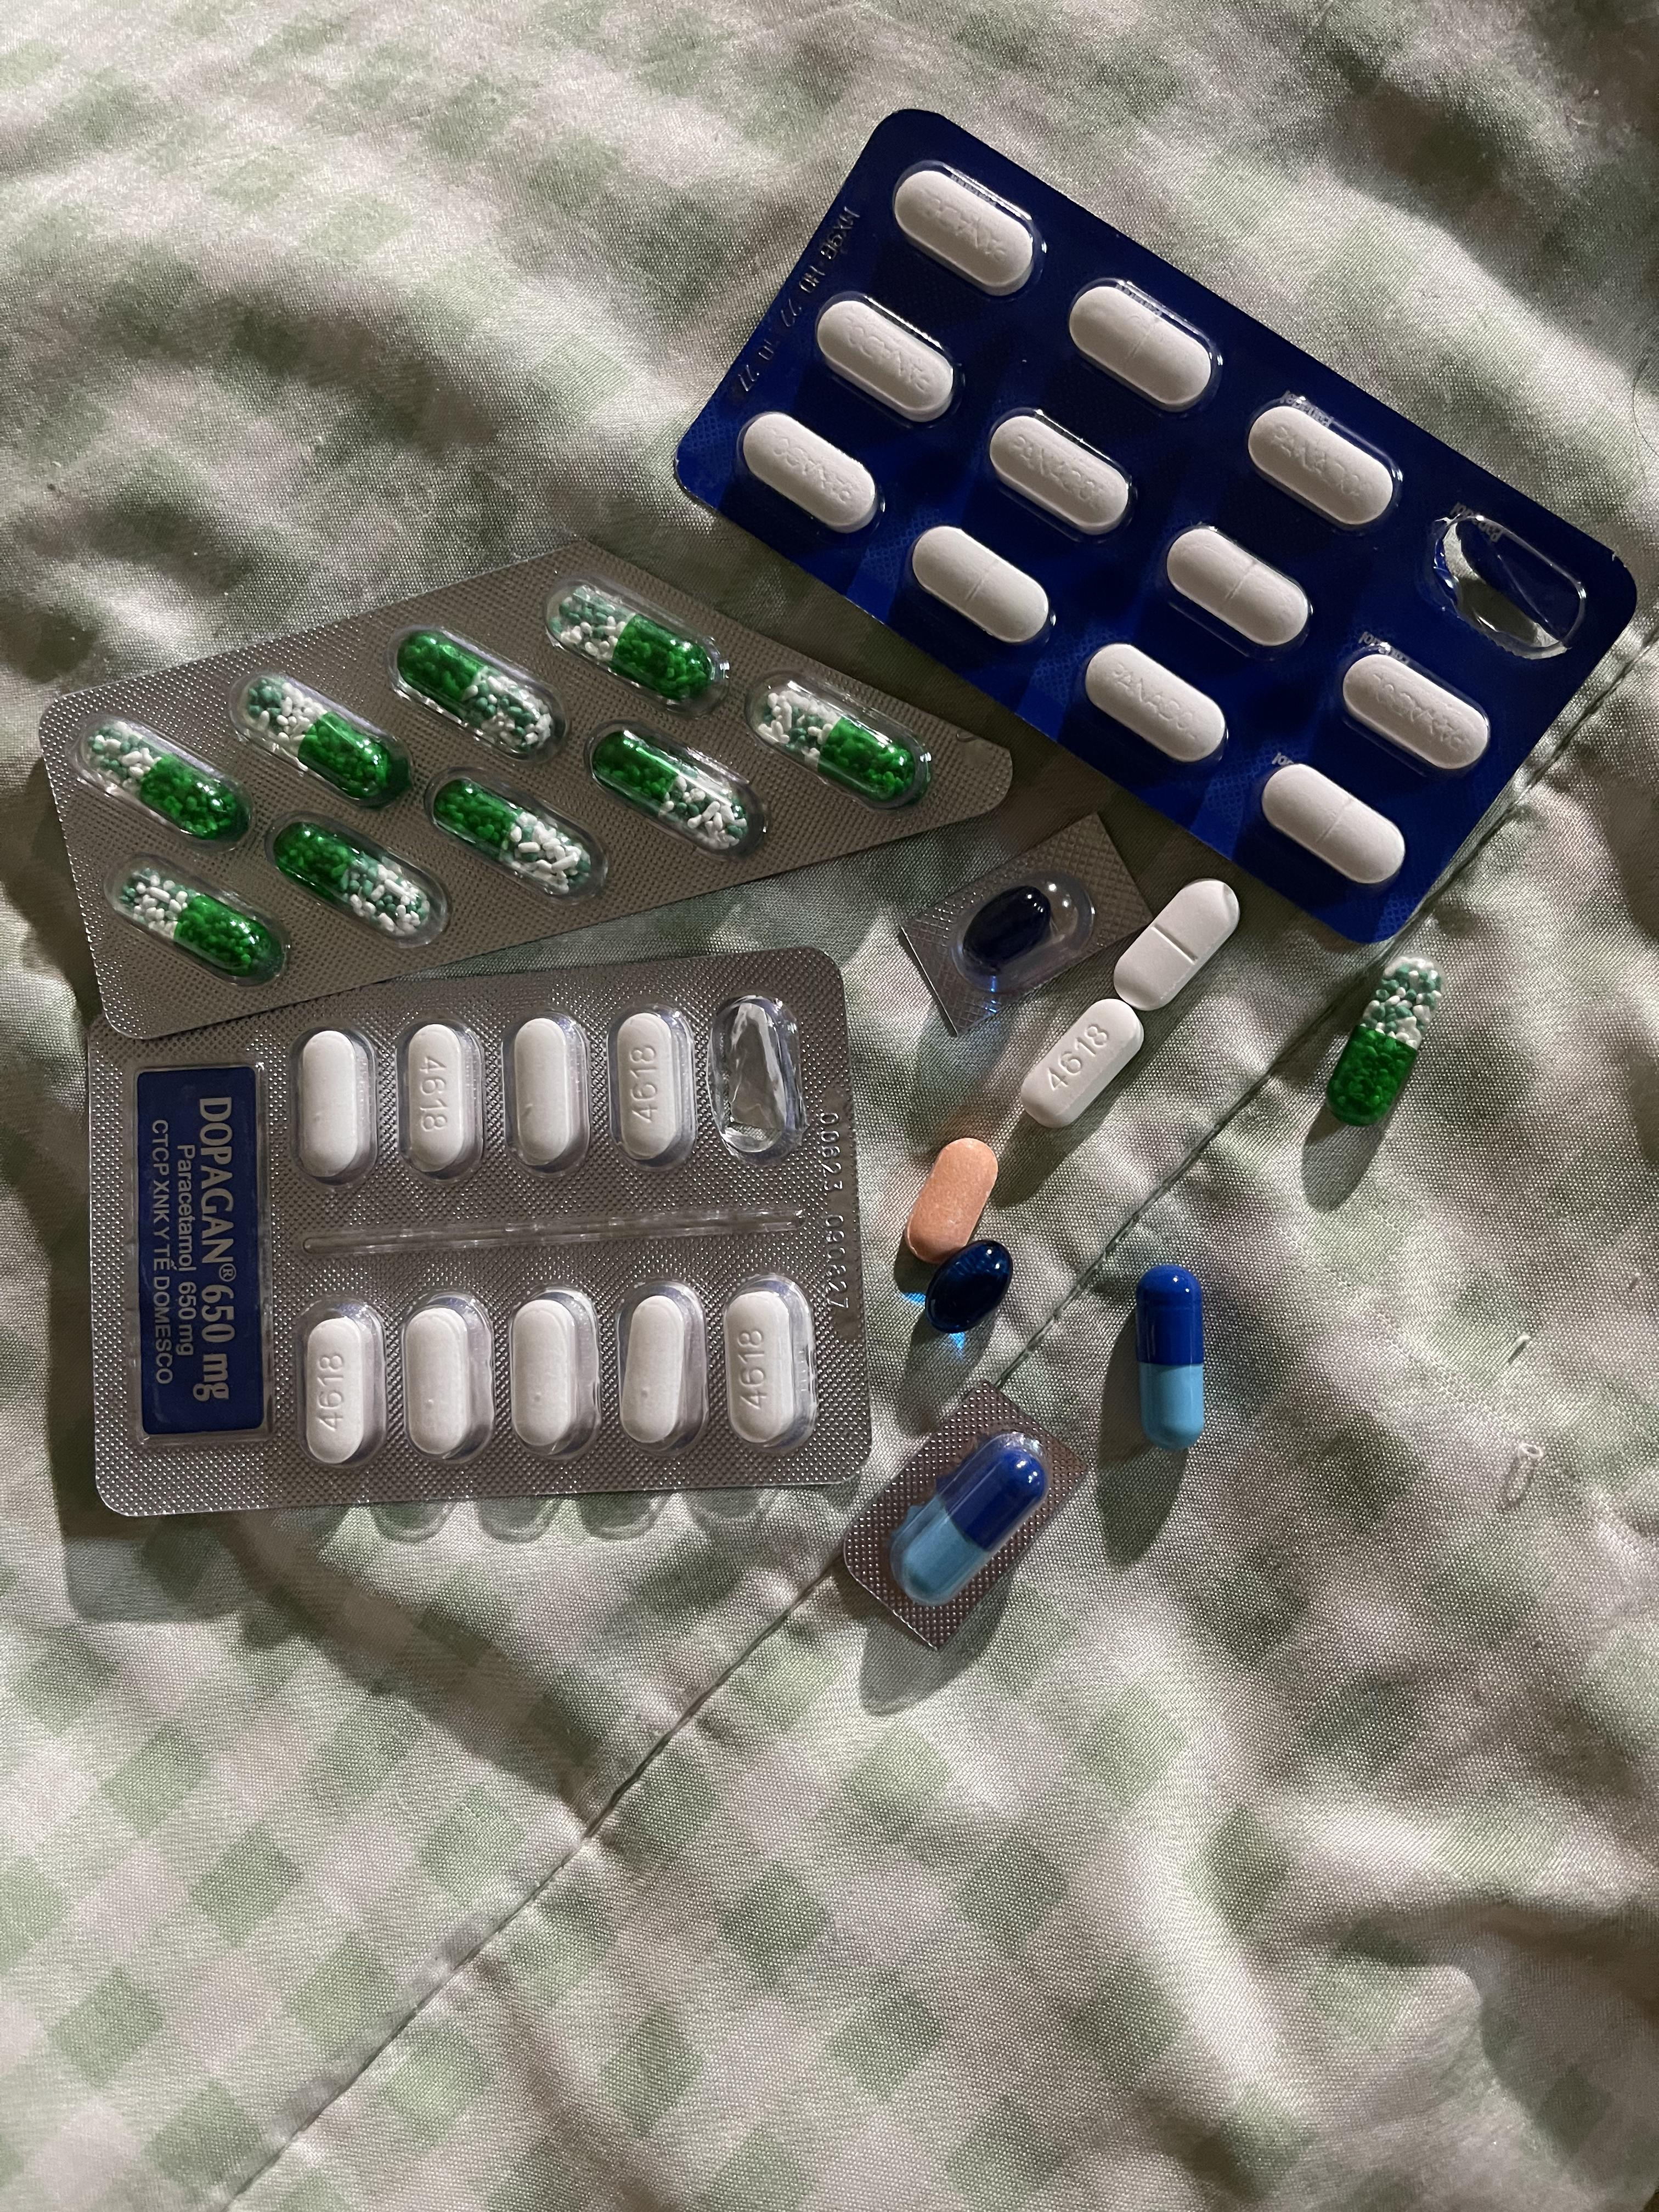Lincomyxin_500mg: (925, 1240, 1012, 1334), (965, 888, 1053, 968)
Loratadine_10mg: (904, 1137, 1006, 1264)
Paracetamol_350mg: (894, 162, 1040, 300), (1248, 399, 1399, 529), (1070, 279, 1216, 409), (1342, 651, 1492, 773), (986, 411, 1127, 538), (816, 294, 953, 423), (1260, 768, 1410, 885), (1166, 526, 1307, 648), (911, 526, 1049, 644), (1087, 643, 1225, 761), (749, 411, 878, 533), (1117, 883, 1236, 1008)
Paracetamol_500mg: (403, 1292, 495, 1463), (1021, 1005, 1147, 1118), (511, 1296, 587, 1456), (620, 1291, 695, 1447), (725, 1292, 798, 1446), (615, 1012, 690, 1160), (301, 1317, 375, 1467), (512, 1017, 584, 1169), (298, 1029, 369, 1181), (408, 1028, 474, 1177)
Paracetamol_650mg: (242, 679, 403, 805), (551, 589, 713, 705), (1328, 958, 1445, 1120), (401, 632, 558, 752), (272, 824, 427, 937), (591, 733, 741, 850), (87, 726, 242, 838), (436, 782, 591, 890), (120, 869, 275, 972), (758, 691, 890, 805)
pill: (889, 1430, 1049, 1608), (1136, 1264, 1208, 1451)
